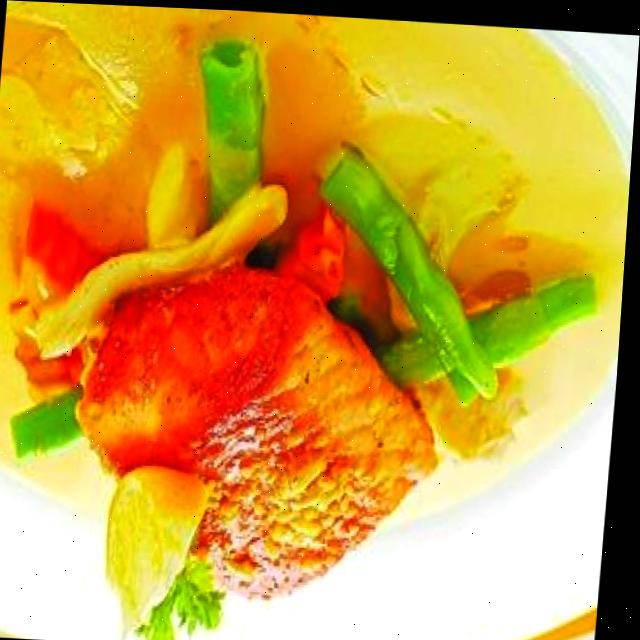熟制海鲜: (0, 2, 640, 640)
